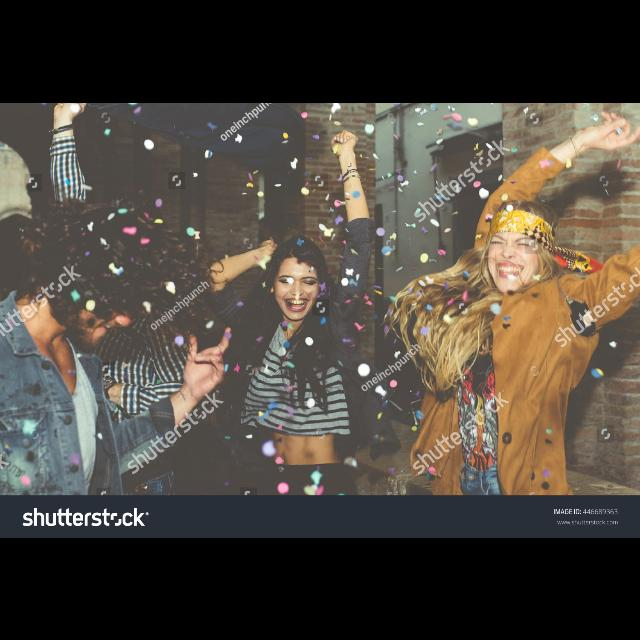head: (48, 206, 150, 354), (483, 198, 559, 292), (99, 193, 169, 273), (270, 237, 328, 321)
